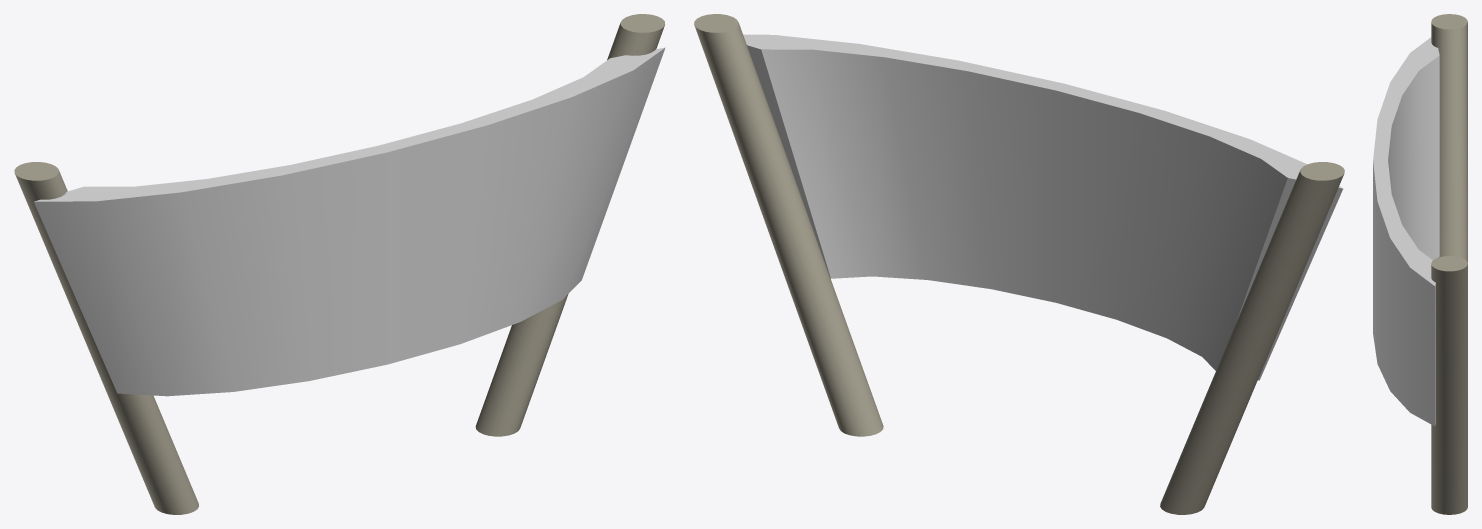
Rendered from Screen.fbx.
3 views of the same model, side by side, from view 1: azimuth 30°, elevation 25°; view 2: azimuth 150°, elevation 25°; view 3: azimuth 270°, elevation 25° (orthographic). The views are drawn at different scales.
Parts seen in each view (by area): view 1: pPipe1, pCylinder2, pCylinder1; view 2: pPipe1, pCylinder1, pCylinder2; view 3: pPipe1, pCylinder1, pCylinder2.
Boxes of the visible parts, x1,y1,x2,y2 form: pPipe1: (34, 47, 665, 396); pCylinder2: (14, 162, 198, 514); pCylinder1: (475, 14, 665, 436); pPipe1: (743, 34, 1342, 380); pCylinder1: (694, 14, 883, 436); pCylinder2: (1160, 162, 1344, 514); pPipe1: (1373, 37, 1439, 426); pCylinder1: (1431, 256, 1467, 514); pCylinder2: (1431, 14, 1467, 262).
Bounding box in the file's own units: 10.18 × 5.56 × 1.59.
